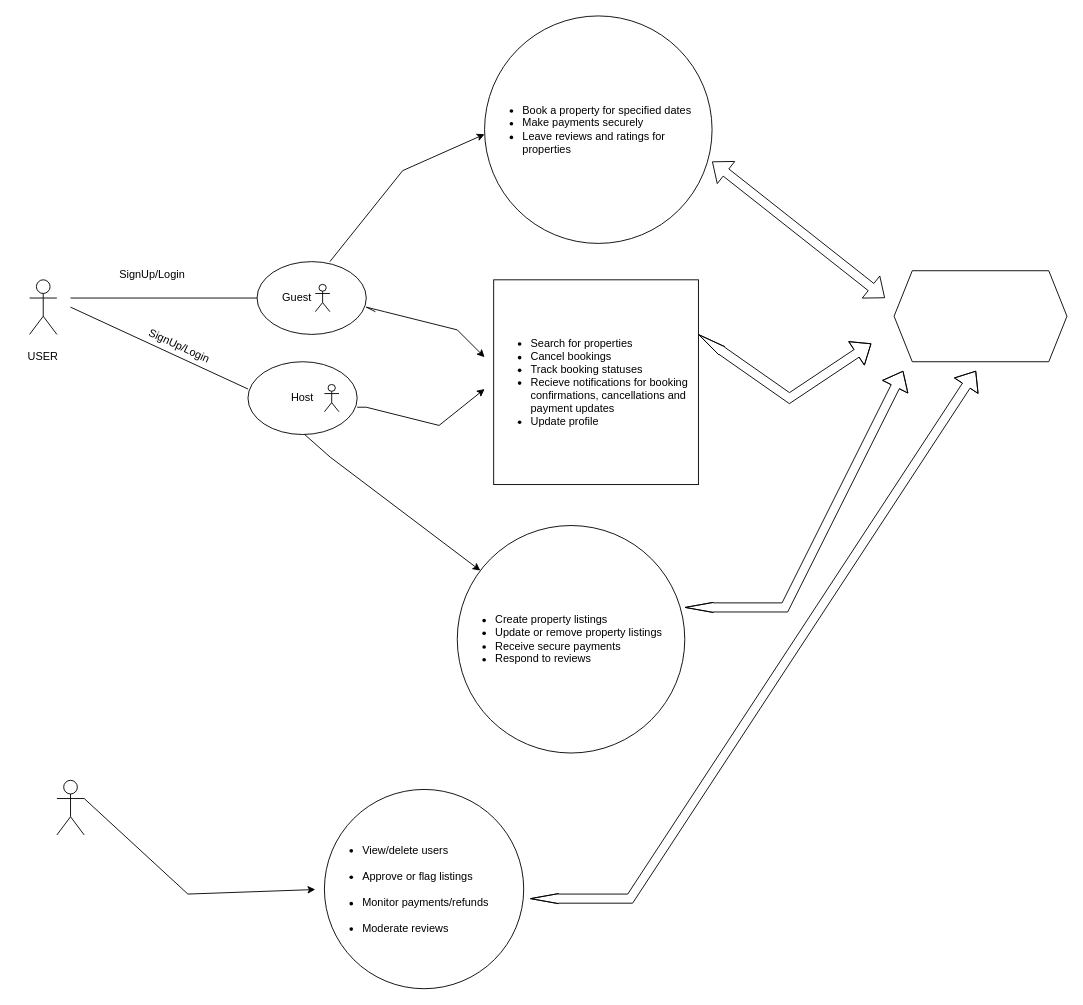
Some shapes in this 1083 by 1005 pixel diagram are drawn without their labels. The centre of each missing label's shape, as x and y in pixels:
"Admin" belongs at (70,807).
"Log out" belongs at (980,316).
